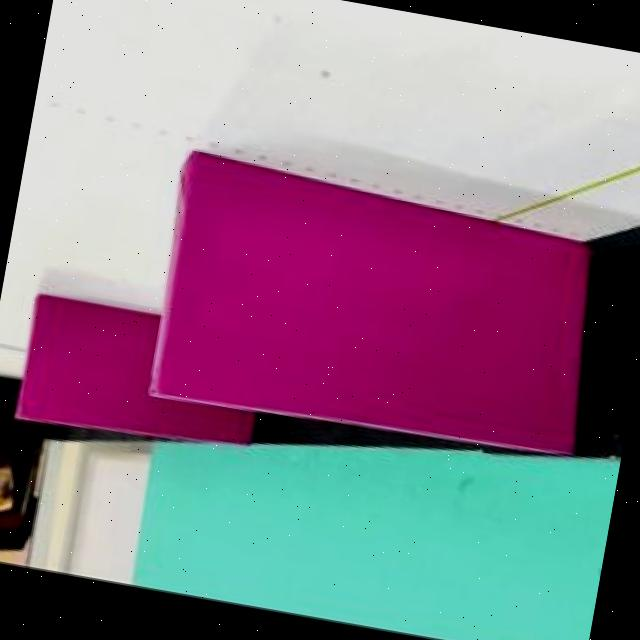xparking: (162, 151, 583, 452), (18, 290, 164, 432)
